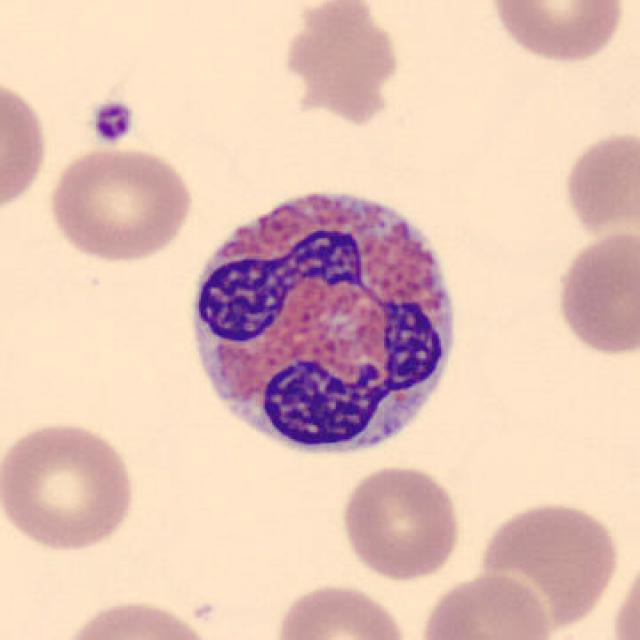Eosinophil: (178, 170, 469, 474)
Platelets: (85, 95, 139, 148)
RBC: (473, 495, 624, 635), (0, 415, 140, 555), (44, 143, 196, 264), (283, 3, 407, 129), (338, 462, 466, 582), (551, 228, 640, 360), (416, 569, 555, 640), (486, 0, 630, 67), (558, 123, 638, 240), (270, 580, 412, 640), (0, 74, 52, 219), (54, 596, 220, 640), (610, 546, 640, 640)
